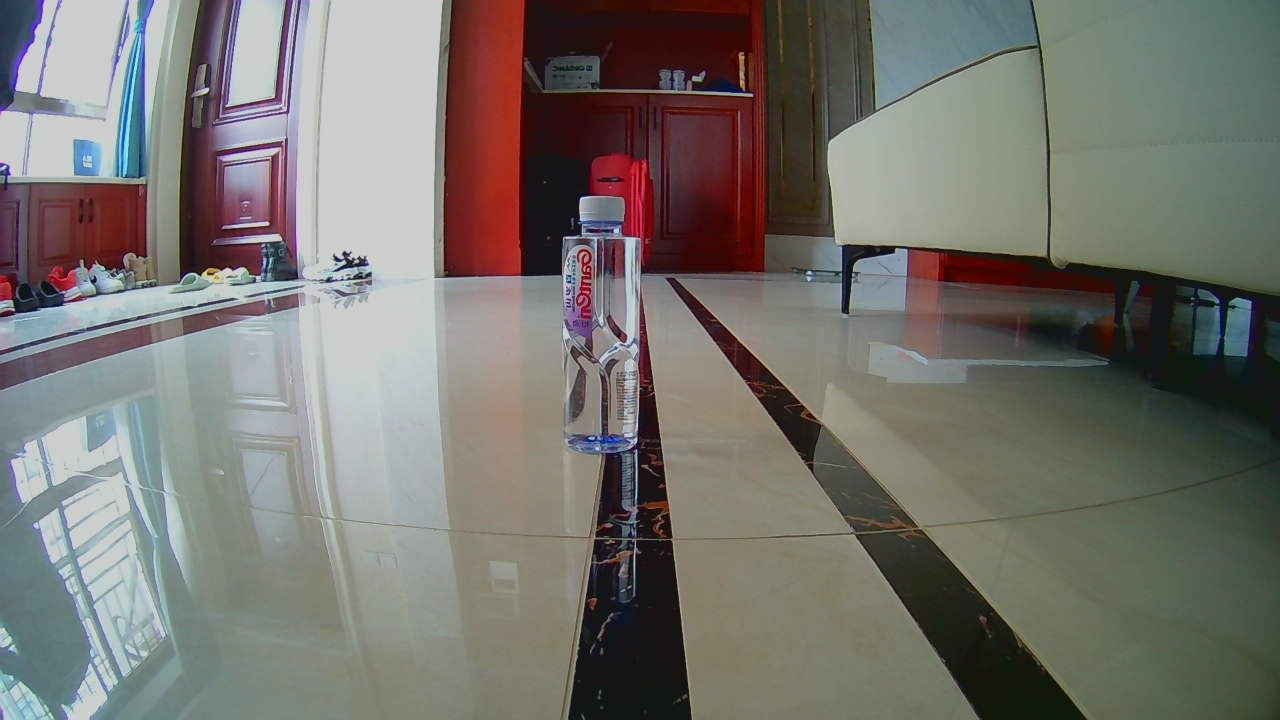water: (567, 192, 635, 454)
